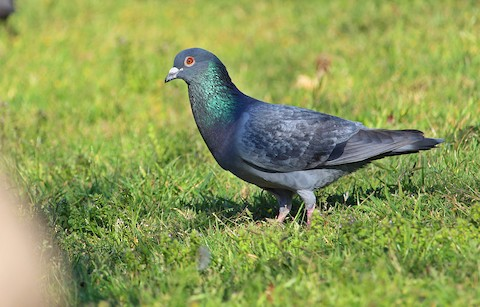pigeon: (158, 43, 446, 232)
